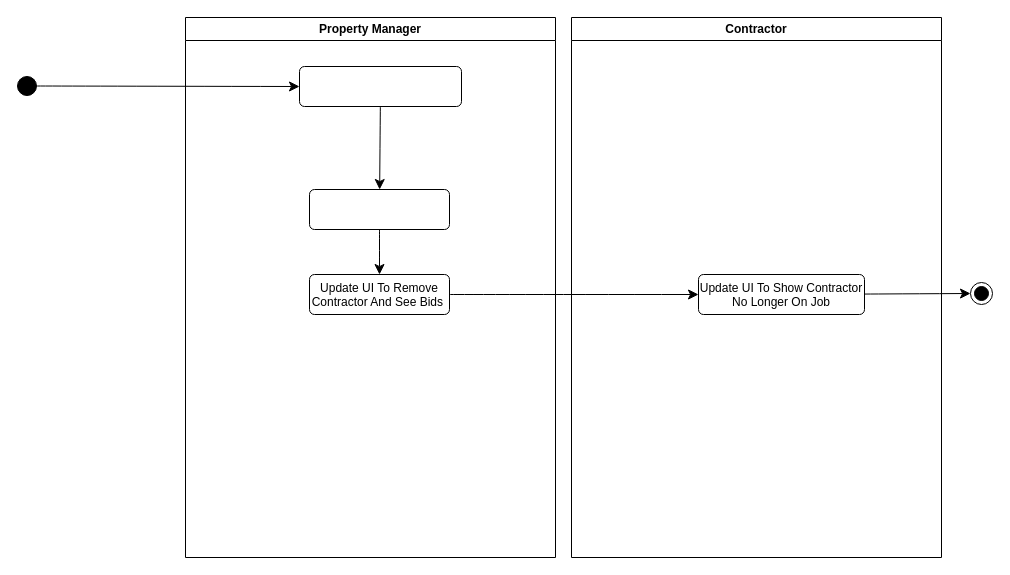
Some shapes in this 1010 by 575 pixel diagram are drawn without their labels. The centre of each missing label's shape, as x and y in pixels:
"Click 'Remove Contractor" goes at point (379, 209).
"View Detailed Page When Contractor Assinged" goes at point (380, 86).
